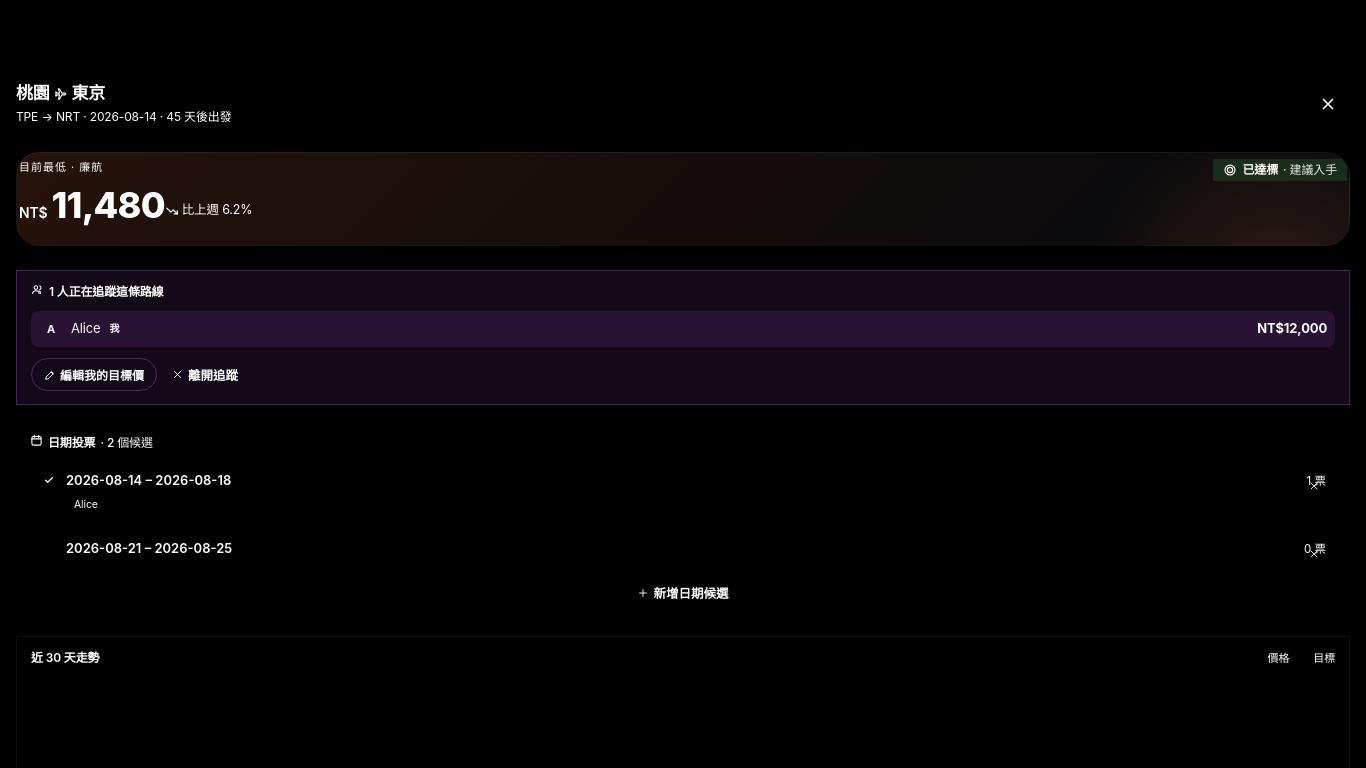
Scenario: WatchDetailSheet — G3 date poll › 點「新增日期候選」→ 顯示 add-option-form
Click the button with test id "open-add-option": (683, 592) [30,575,1336,610]
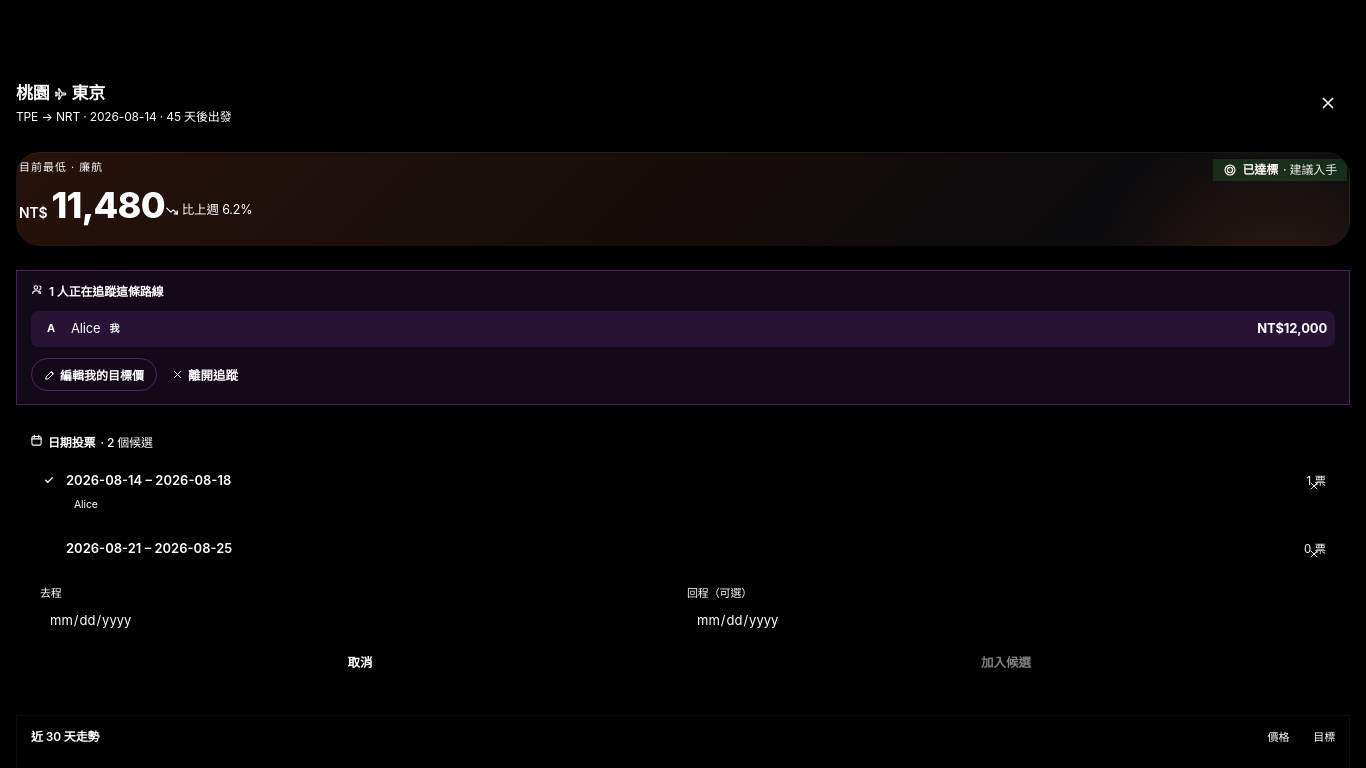
Expected: the element with test id "add-option-form" is shown, [30,575,1336,690]
